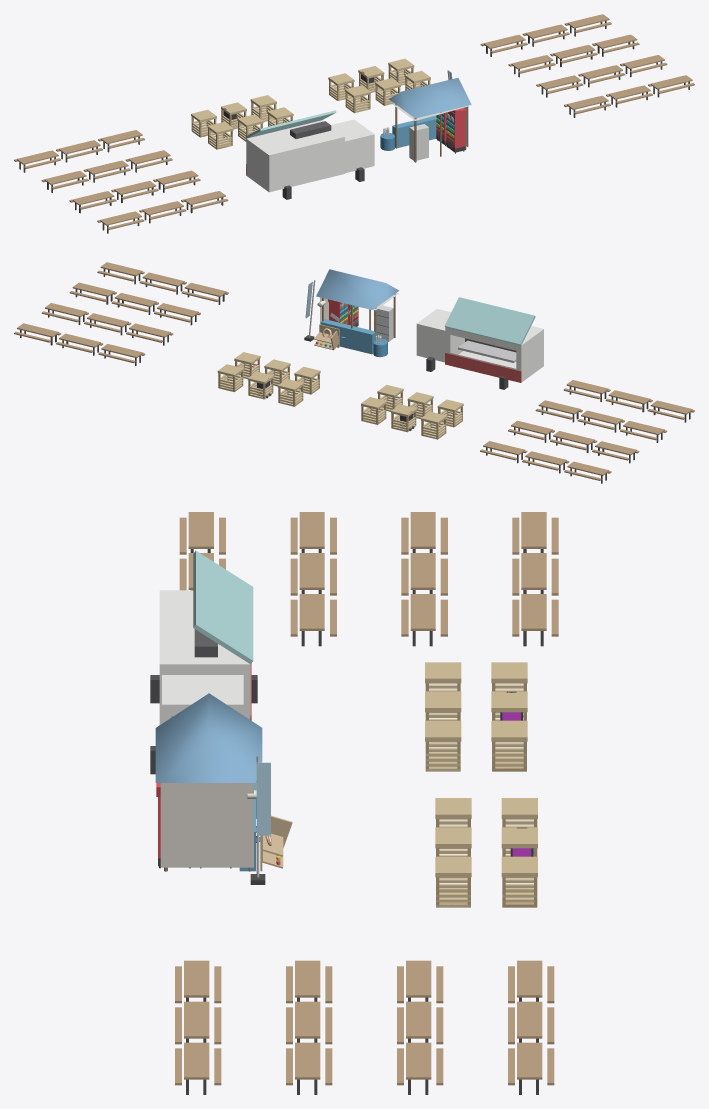
File: 항구마을.glb
3 views of the same model, one above another, from view 1: azimuth 30°, elevation 25°; view 2: azimuth 150°, elevation 25°; view 3: azimuth 270°, elevation 25° (orthographic). The views are drawn at different scales.
Visible parts, largest first — view 1: Geom3D (×8); view 2: Geom3D (×8); view 3: Geom3D (×28).
Boxes of the visible parts, x1,y1,x2,y2 form: Geom3D (×8): (246,78,471,192); Geom3D (×8): (316,269,543,382); Geom3D (×28): (155,512,546,1079).
Size of the model in its own units: 41.04 by 4.46 by 12.41.
